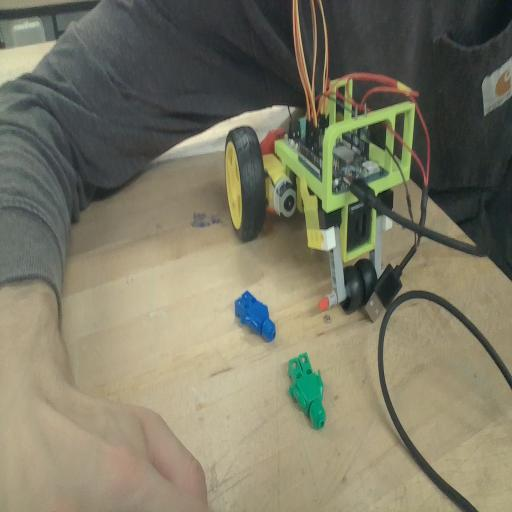blue LEGO minifig: (231, 283, 279, 345)
green LEGO minifig: (284, 348, 328, 434)
